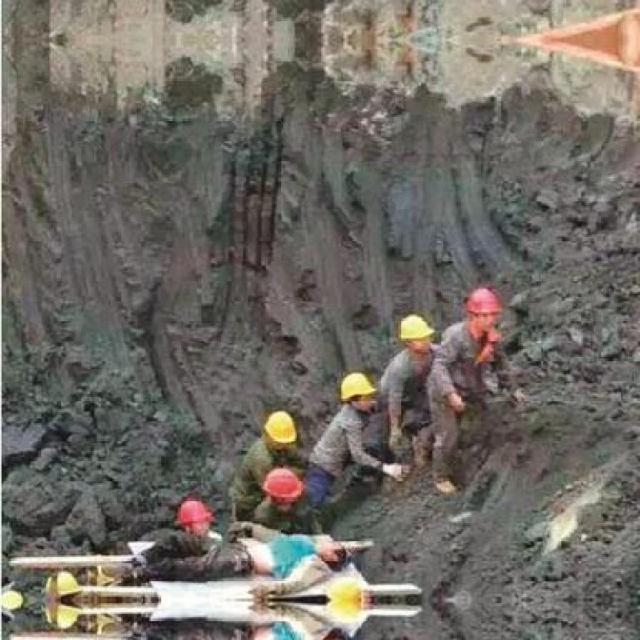helmet: (262, 465, 305, 498), (178, 495, 214, 526), (264, 409, 296, 443), (399, 313, 434, 340), (340, 372, 376, 398), (467, 288, 503, 313)
